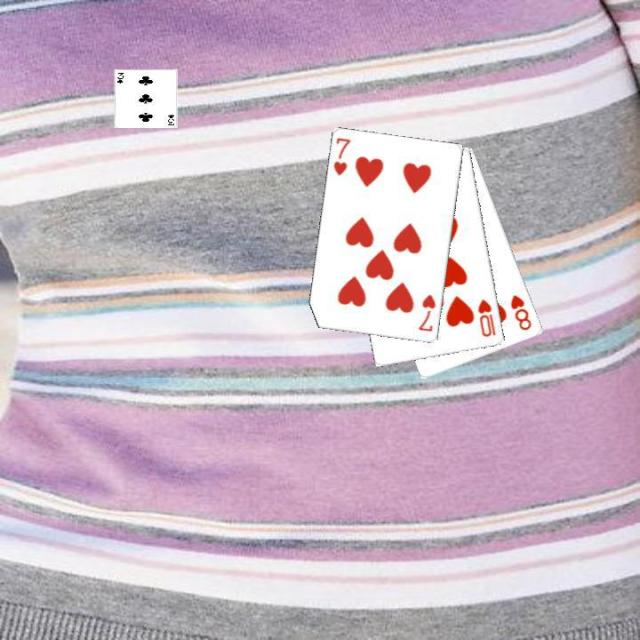10H: (474, 295, 498, 339)
7H: (330, 134, 353, 178), (415, 291, 437, 334)
8H: (507, 290, 533, 332)
